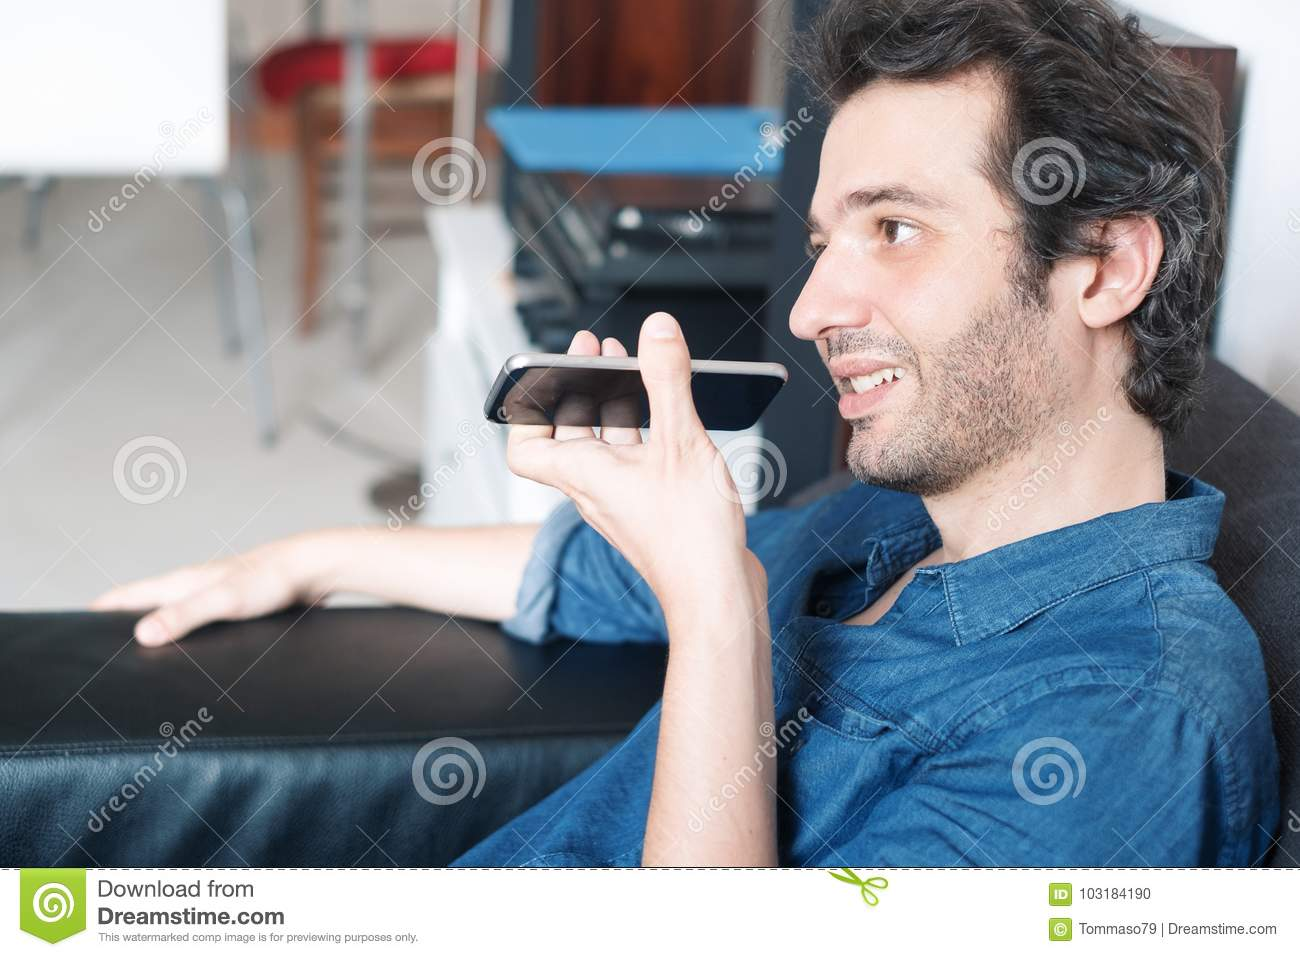phone: (484, 345, 789, 436)
